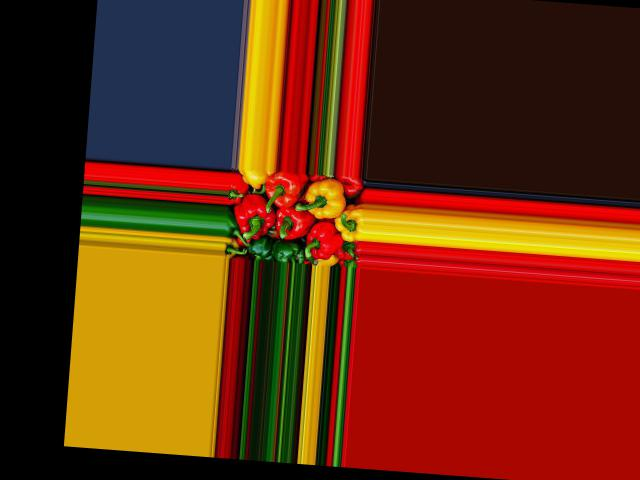bell_pepper: (242, 168, 266, 188)
